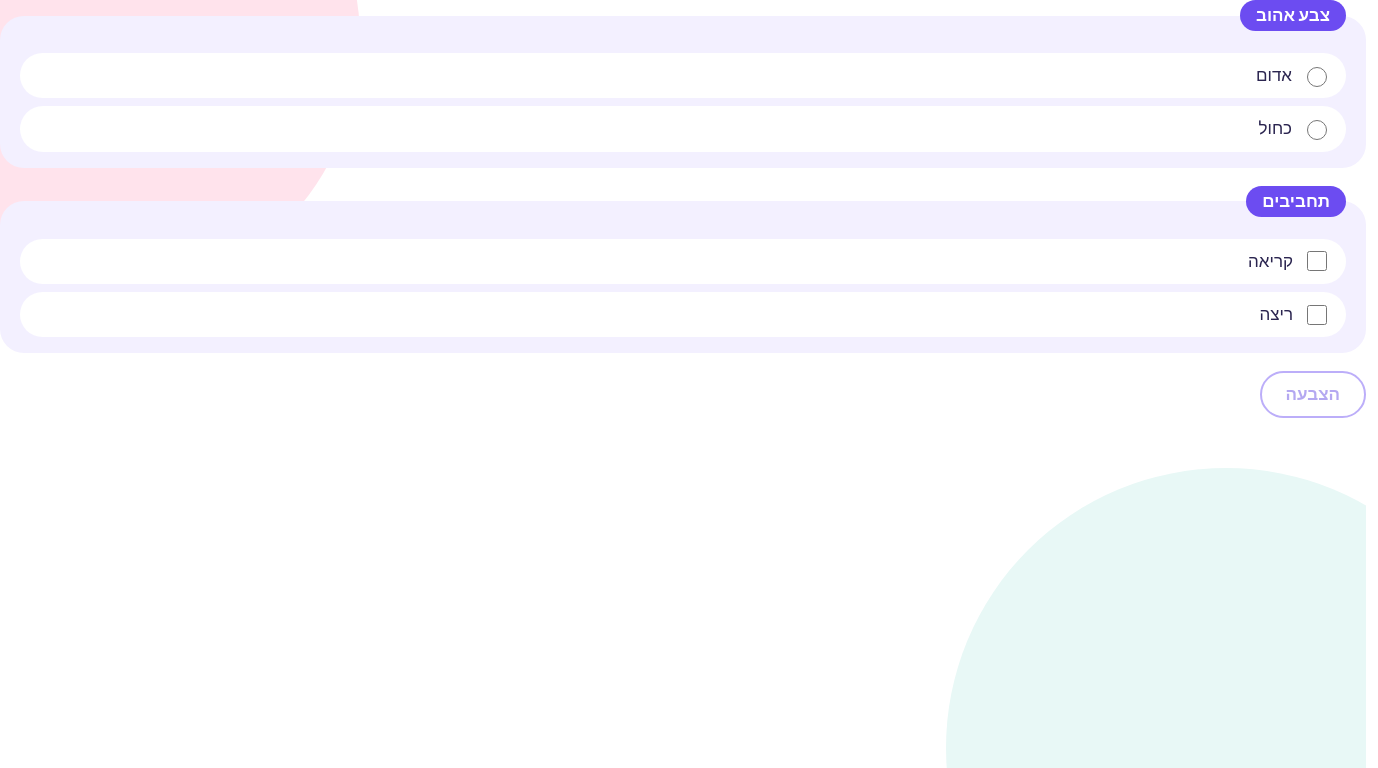
VoteForm › כפתור ההצבעה מושבת עד שעונים על כל השאלות
Check: the button "הצבעה" is disabled, box [1260, 371, 1366, 418]
Click the radio button labelled "אדום" at (1317, 77), box [1307, 67, 1327, 87]
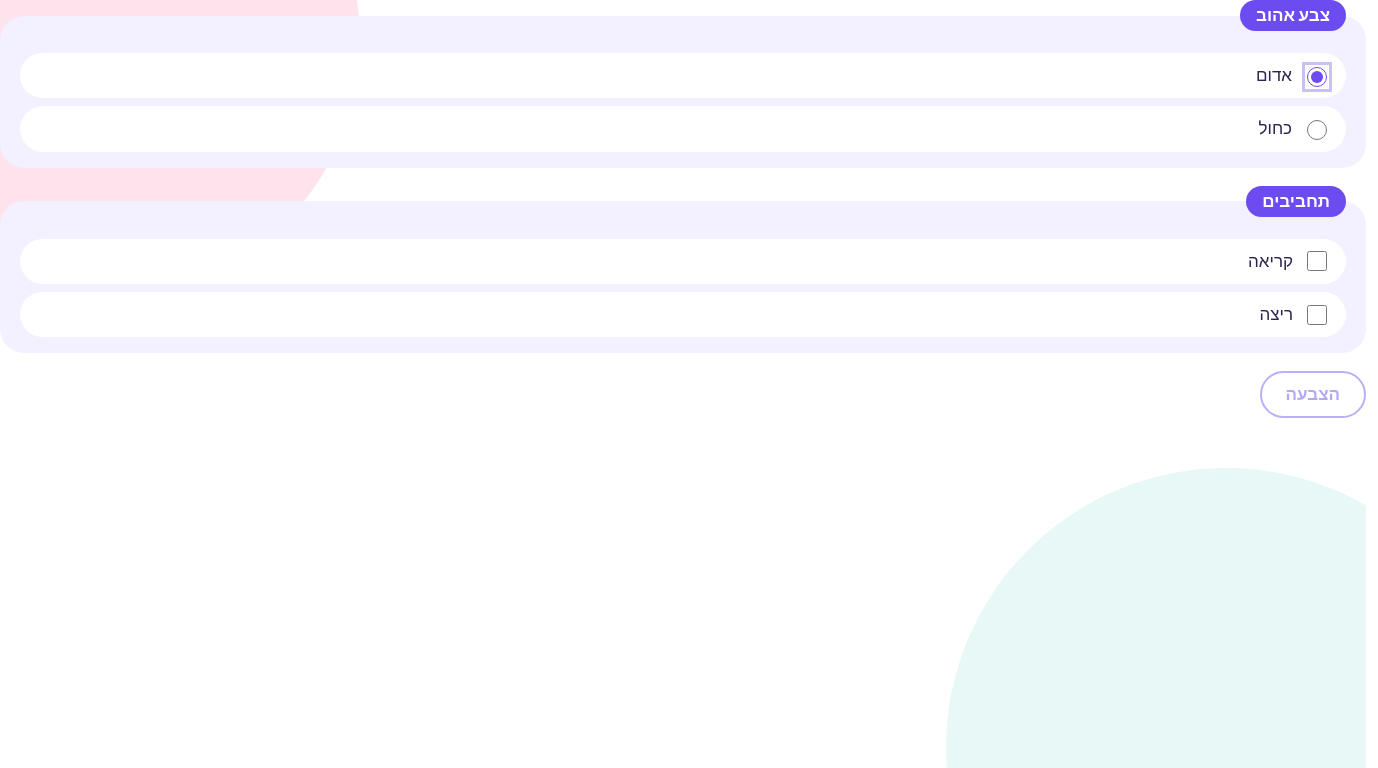
Check: the button "הצבעה" is disabled, box [1260, 371, 1366, 418]
Click the checkbox labelled "קריאה" at (1317, 261), box [1307, 251, 1327, 271]
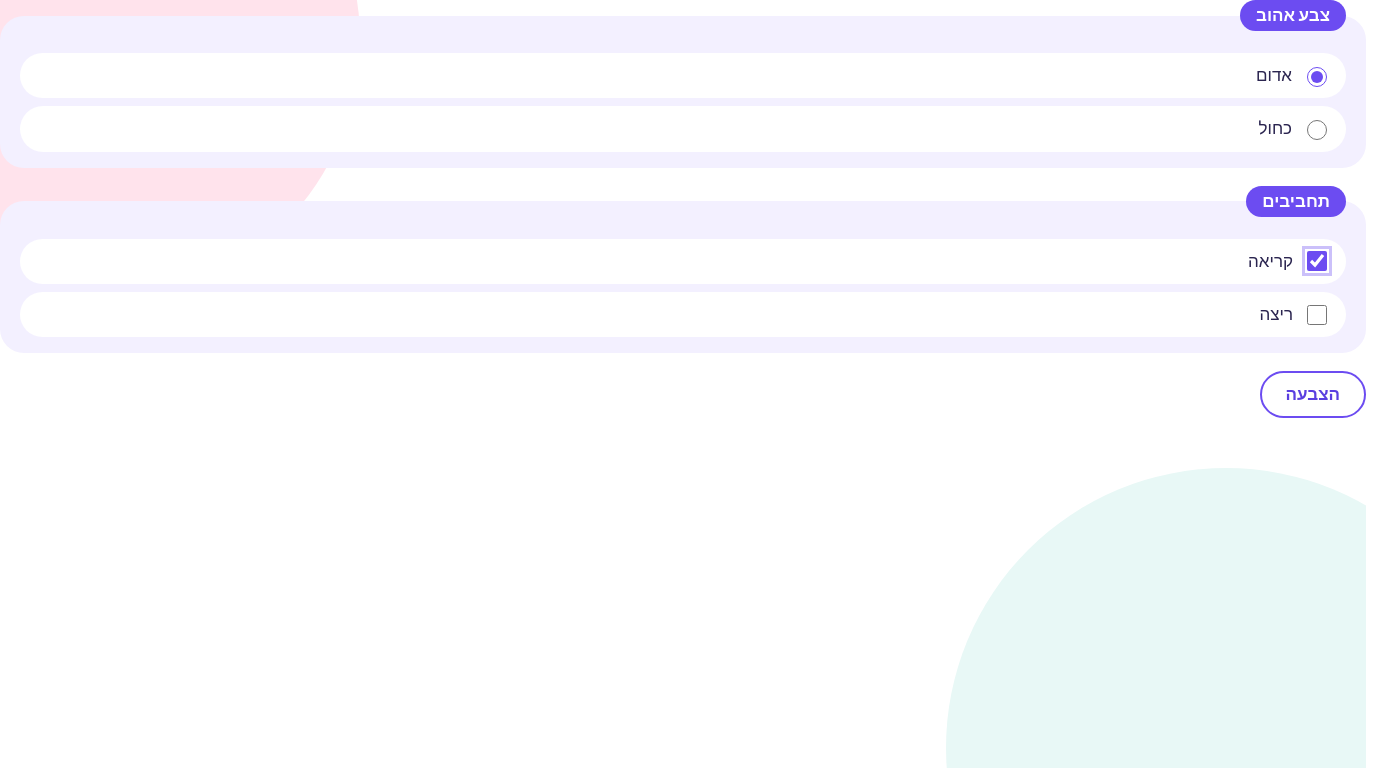
Check: the button "הצבעה" is enabled, box [1260, 371, 1366, 418]
